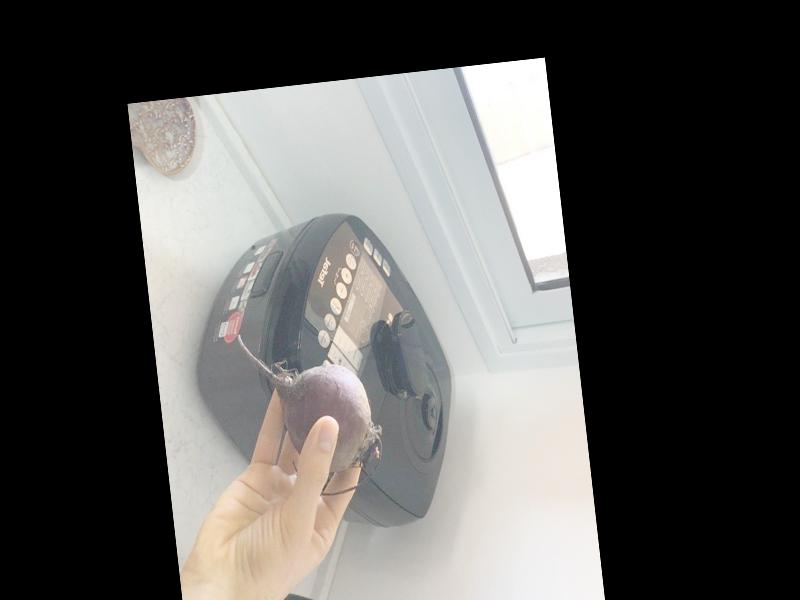Beet: (235, 320, 388, 502)
